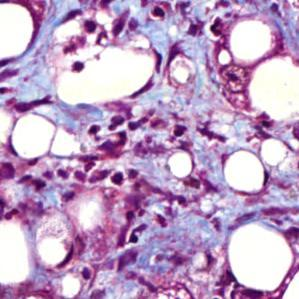steatosis: (220, 215, 294, 294), (225, 151, 268, 194)
